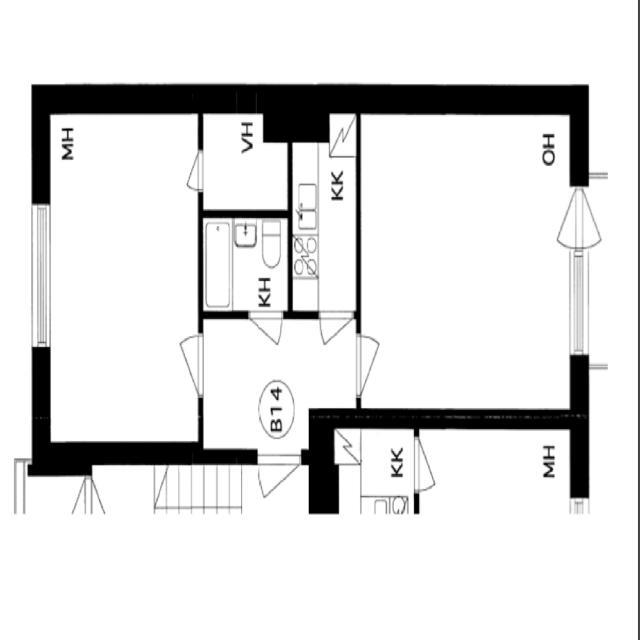door: (554, 171, 611, 259), (254, 449, 302, 502), (175, 328, 206, 398), (412, 434, 441, 501), (354, 328, 384, 392), (245, 307, 285, 348), (316, 308, 354, 349), (183, 149, 207, 197)
window: (23, 196, 58, 362), (558, 168, 614, 258), (563, 243, 596, 373), (566, 484, 594, 550), (410, 434, 422, 492)
zone: (356, 105, 576, 417), (44, 104, 202, 457), (200, 316, 360, 452), (291, 108, 360, 317), (200, 109, 289, 216), (198, 215, 291, 316)
